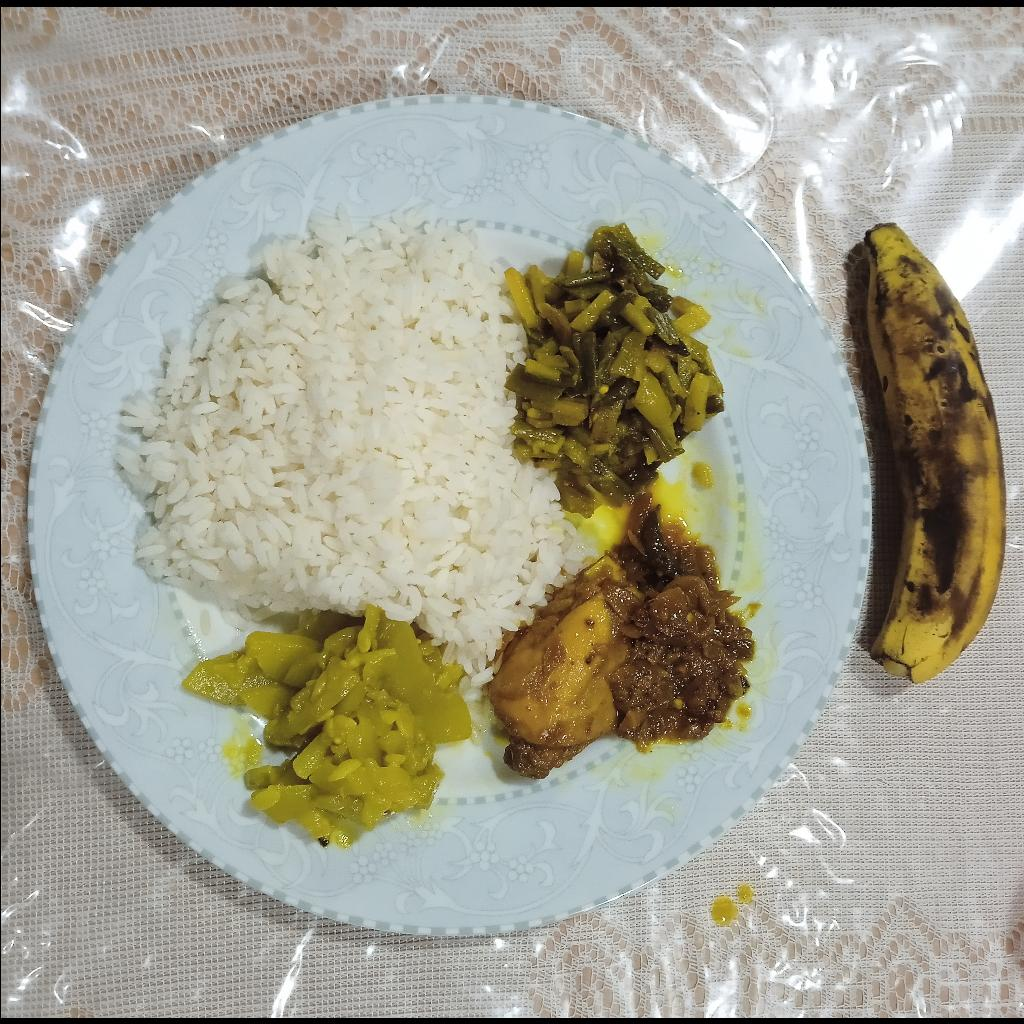banana: (863, 220, 1007, 685)
chicken: (489, 503, 690, 750)
lau: (181, 609, 475, 847)
rice: (112, 208, 586, 682)
vegetable: (500, 220, 724, 518)
